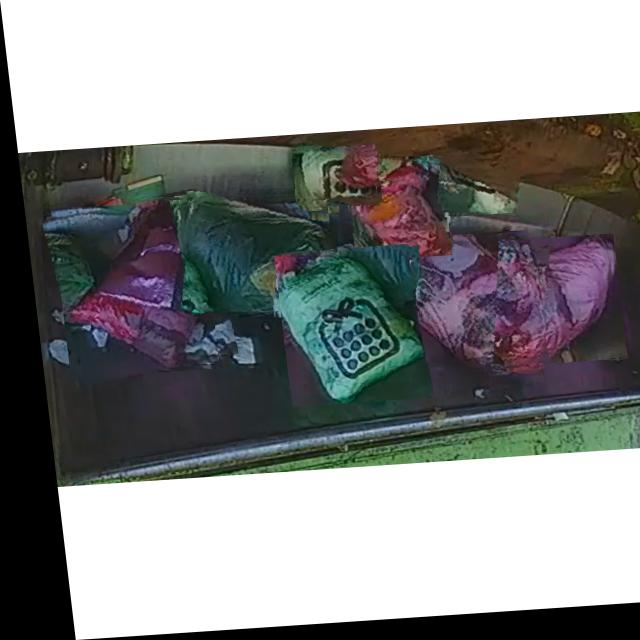general_trashbag: (272, 253, 416, 407), (178, 197, 328, 316), (422, 162, 512, 221), (289, 153, 372, 204), (372, 165, 412, 185)
other_trashbag: (60, 198, 198, 369), (404, 240, 536, 377), (498, 243, 604, 373), (342, 167, 445, 263)
